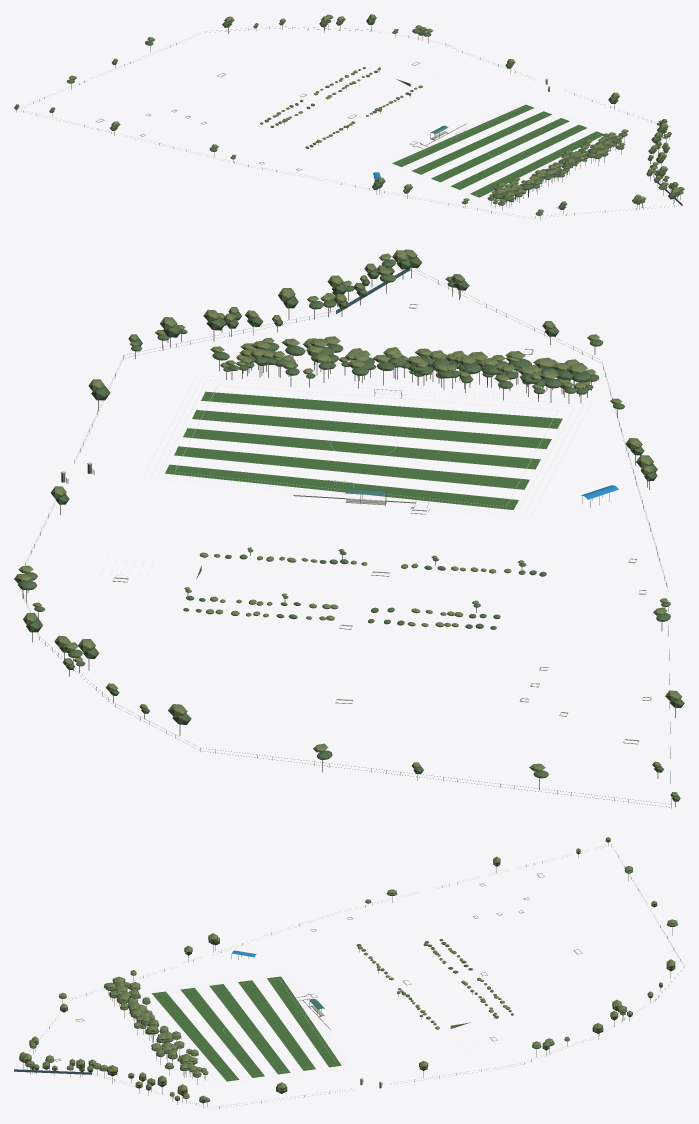
The picture shows the model from 3 angles, top to bottom: view 1: azimuth 30°, elevation 25°; view 2: azimuth 150°, elevation 25°; view 3: azimuth 270°, elevation 25°; orthographic projection. The views are drawn at different scales.
Visible parts, largest first — view 1: planting_mixed-trees, facility_turf-pattern, planting_low-shrubs, facility_boundary-fence; view 2: planting_mixed-trees, facility_turf-pattern, planting_low-shrubs, facility_boundary-fence; view 3: facility_turf-pattern, planting_mixed-trees, planting_low-shrubs, facility_boundary-fence.
Part boxes in pixels (x1,y1,x2,y2): planting_mixed-trees: (14, 14, 684, 220); facility_turf-pattern: (392, 104, 603, 197); planting_low-shrubs: (260, 67, 422, 148); facility_boundary-fence: (18, 26, 682, 218); planting_mixed-trees: (14, 249, 684, 806); facility_turf-pattern: (165, 391, 562, 509); planting_low-shrubs: (183, 552, 546, 629); facility_boundary-fence: (20, 268, 671, 808); facility_turf-pattern: (152, 976, 341, 1081); planting_mixed-trees: (19, 837, 677, 1107); planting_low-shrubs: (356, 939, 513, 1029); facility_boundary-fence: (14, 844, 684, 1108).
Bounding box in the file's own units: 274 × 10.9 × 295.
15 materials, 4 textured.
